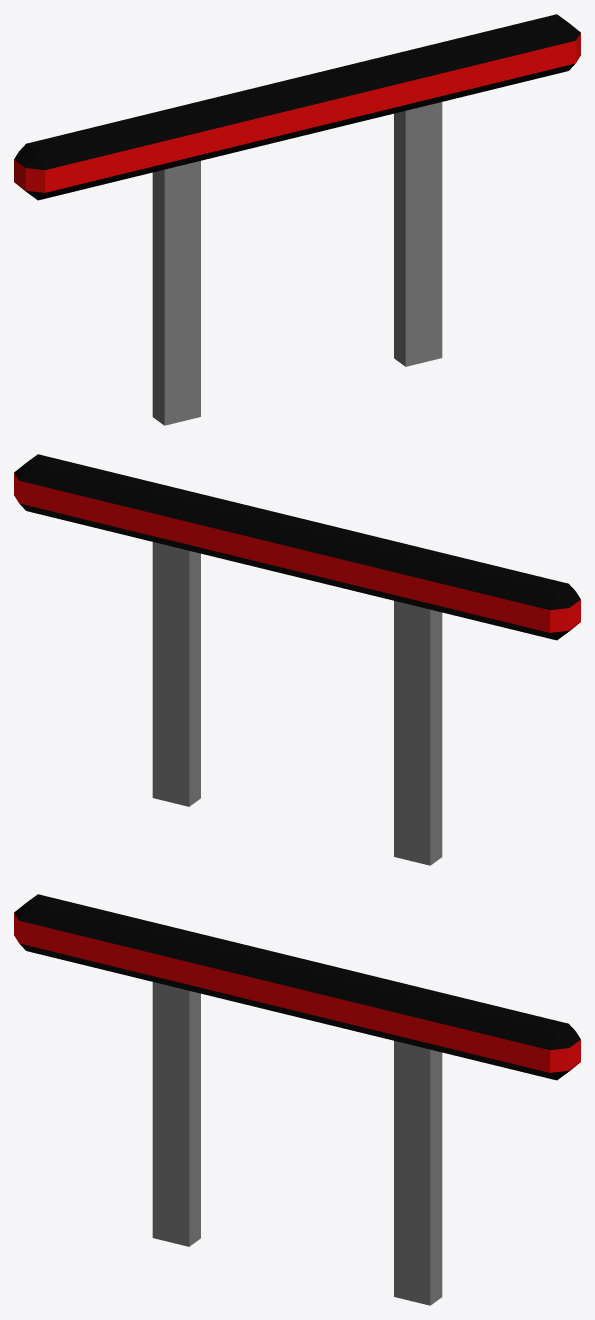
The model's file is Throttle handle.fbx.
The picture shows the model from 3 angles, top to bottom: view 1: azimuth 30°, elevation 25°; view 2: azimuth 150°, elevation 25°; view 3: azimuth 330°, elevation 25°; orthographic projection.
Visible parts, largest first — view 1: Throttle handle; view 2: Throttle handle; view 3: Throttle handle.
Part boxes in pixels (bbox=[...]): Throttle handle: bbox=[14, 14, 580, 425]; Throttle handle: bbox=[14, 454, 580, 865]; Throttle handle: bbox=[14, 894, 580, 1305].
Size of the model in its own units: 1.92 by 1.01 by 0.1549.
